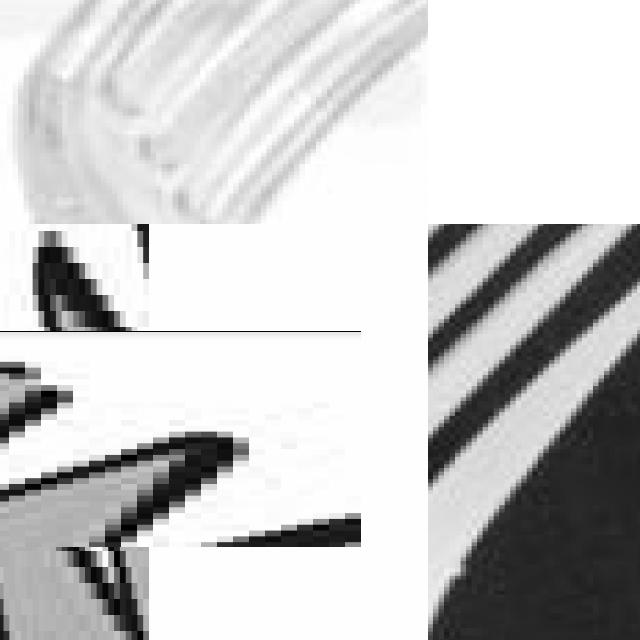forks: (0, 225, 255, 640), (0, 0, 428, 224), (428, 224, 640, 640)
